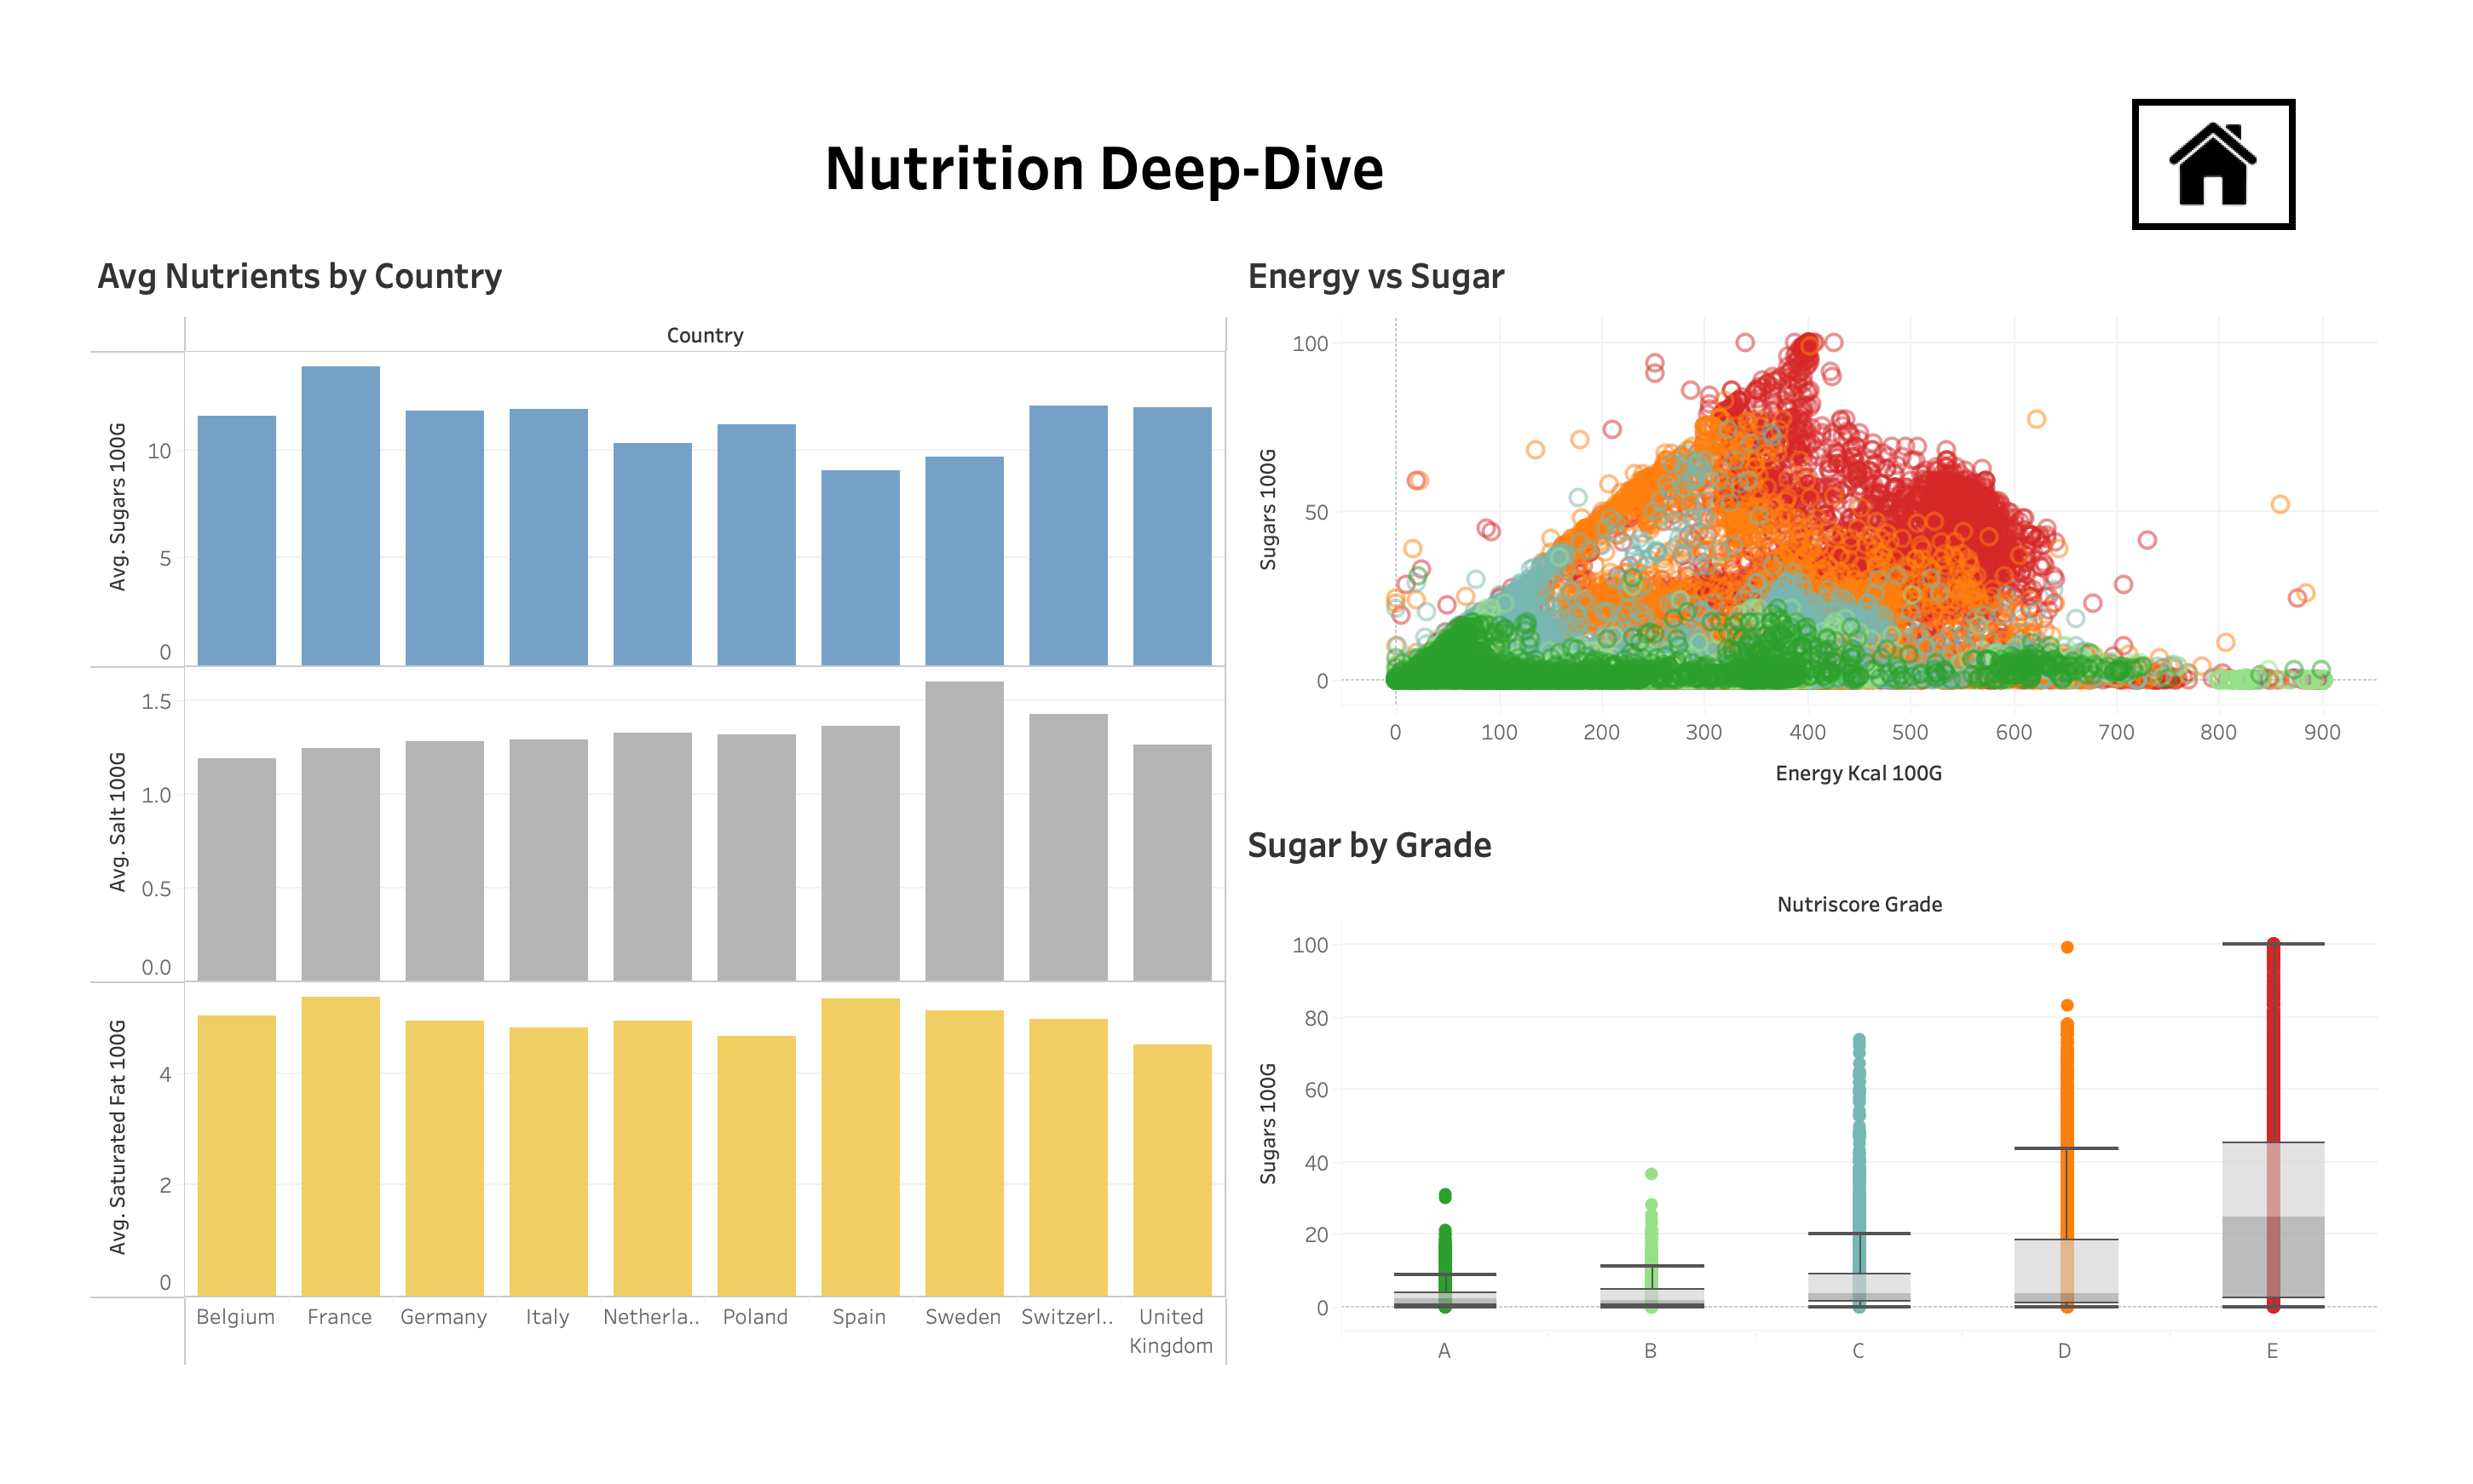

Layout of this report page (visuals, bound fields, positions):
{"tool":"tableau","page":{"name":"Dashboard 2","canvas":[1366,768],"ordinal":1},"visuals":[{"type":"text","box":[8,8,1198,85]},{"type":"dashboard-object","box":[1206,8,104,85]},{"type":"worksheet","title":"Avg Nutrients by Country","mark":"Automatic","rows":["sugars_100g","salt_100g","saturated_fat_100g"],"cols":["country"],"box":[8,93,675,667]},{"type":"worksheet","title":"Energy vs Sugar","mark":"Automatic","rows":["sugars_100g"],"cols":["energy_kcal_100g"],"box":[683,93,675,333.5]},{"type":"worksheet","title":"Sugar by Grade","mark":"Circle","rows":["sugars_100g"],"cols":["nutriscore_grade"],"box":[683,426.5,675,333.5]}]}

Visuals, with their boxes on the page's 1366x768 design canvas (x1, y1, x2, y2). These are canvas units, not pixel positions in the 2473x1484 screenshot, which may show the page scaled, cropped or inside an application window:
text: rect(8, 8, 1206, 93)
dashboard-object: rect(1206, 8, 1310, 93)
"Avg Nutrients by Country" worksheet: rect(8, 93, 683, 760)
"Energy vs Sugar" worksheet: rect(683, 93, 1358, 426)
"Sugar by Grade" worksheet (Circle marks): rect(683, 426, 1358, 760)
